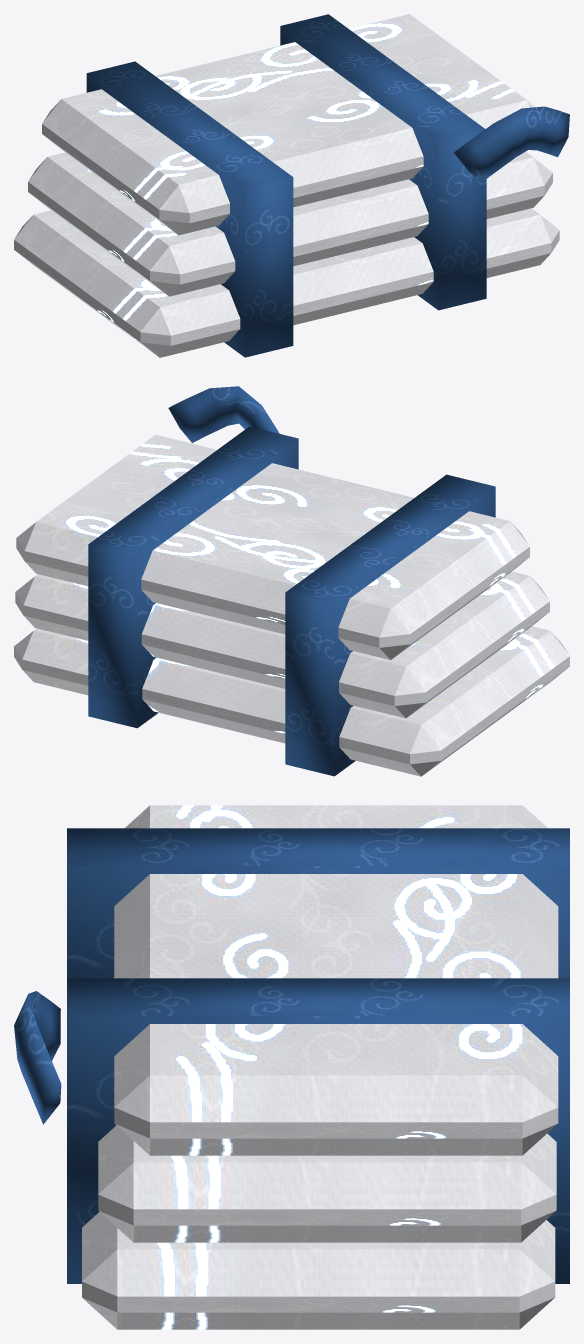
Rendered from cloud_silk.glb.
3 views of the same model, one above another, from view 1: azimuth 30°, elevation 25°; view 2: azimuth 150°, elevation 25°; view 3: azimuth 270°, elevation 25° (orthographic). The views are drawn at different scales.
Parts seen in each view (by area): view 1: CloudSilk, SilkRibbon; view 2: CloudSilk, SilkRibbon; view 3: CloudSilk, SilkRibbon.
Boxes of the visible parts, bbox=[...] form: CloudSilk: bbox=[14, 14, 559, 357]; SilkRibbon: bbox=[86, 14, 569, 357]; CloudSilk: bbox=[14, 434, 569, 776]; SilkRibbon: bbox=[88, 386, 495, 776]; CloudSilk: bbox=[82, 805, 558, 1329]; SilkRibbon: bbox=[14, 828, 569, 1283].
Bounding box in the file's own units: 0.26 × 0.1148 × 0.188.
2 materials, 2 textured.
